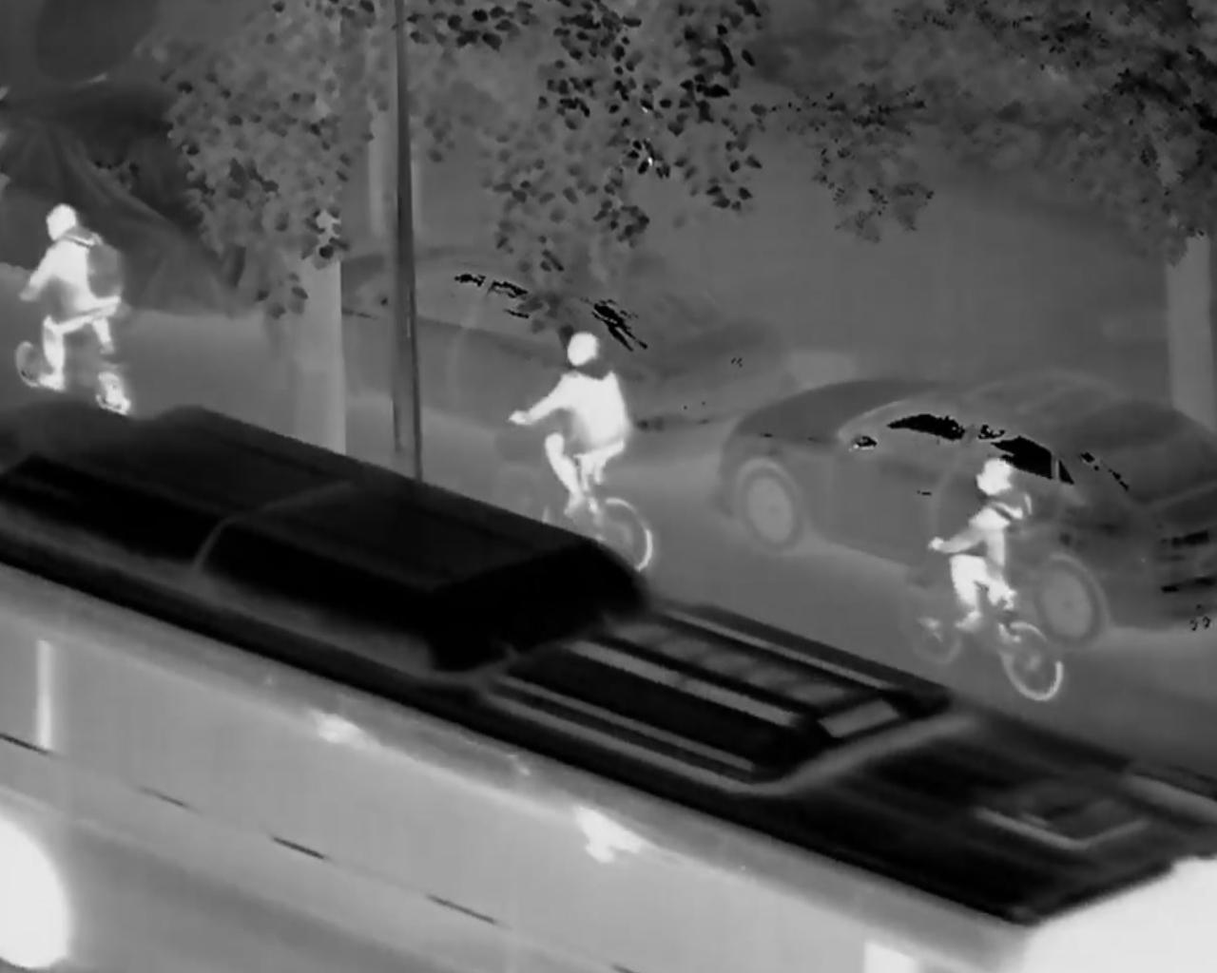person: (498, 323, 629, 538), (18, 198, 144, 420), (920, 457, 1038, 640)
